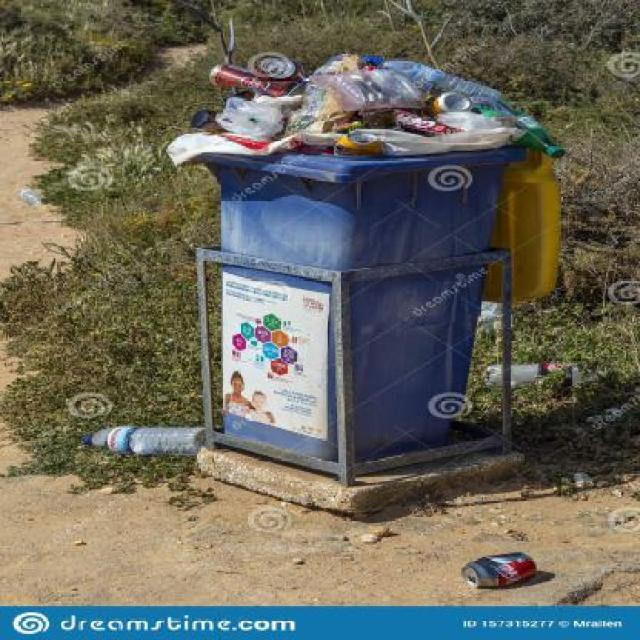garbage container: (167, 133, 508, 482)
